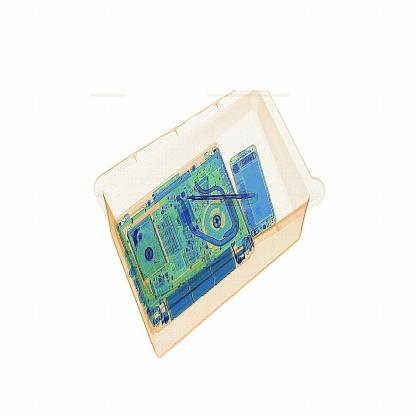pliers: (189, 186, 266, 211)
